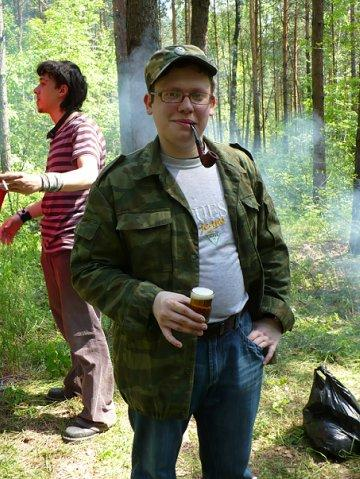trubka: (191, 125, 218, 168)
